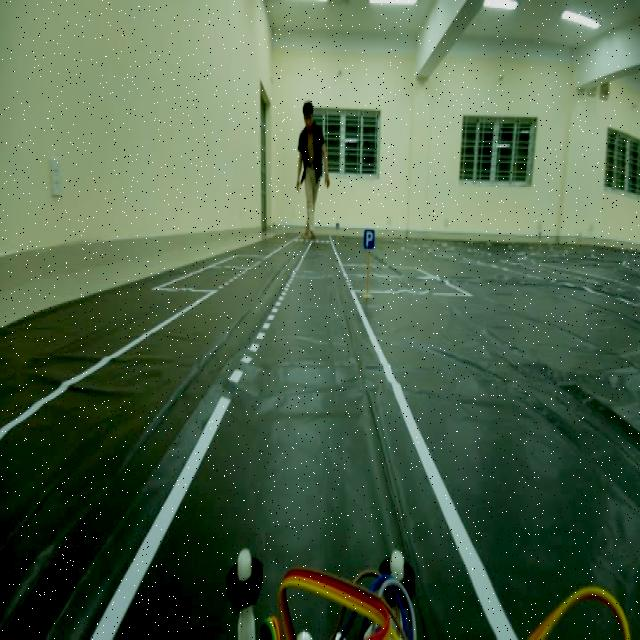parking: (359, 226, 380, 259)
